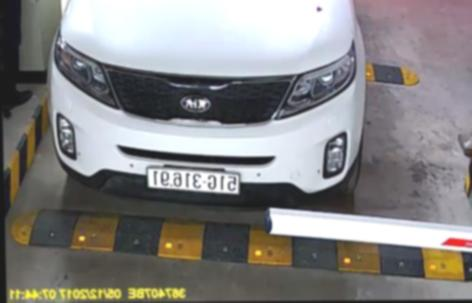License_Plate: (142, 166, 242, 195)
